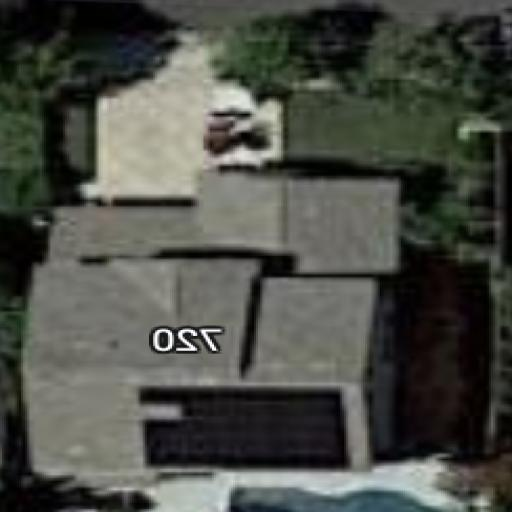Solar-Slope-Roof: (29, 177, 396, 474)
